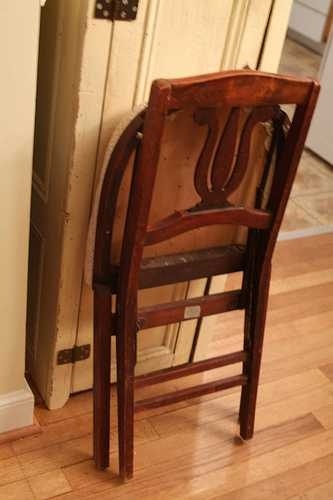obstacle: (93, 71, 318, 478)
